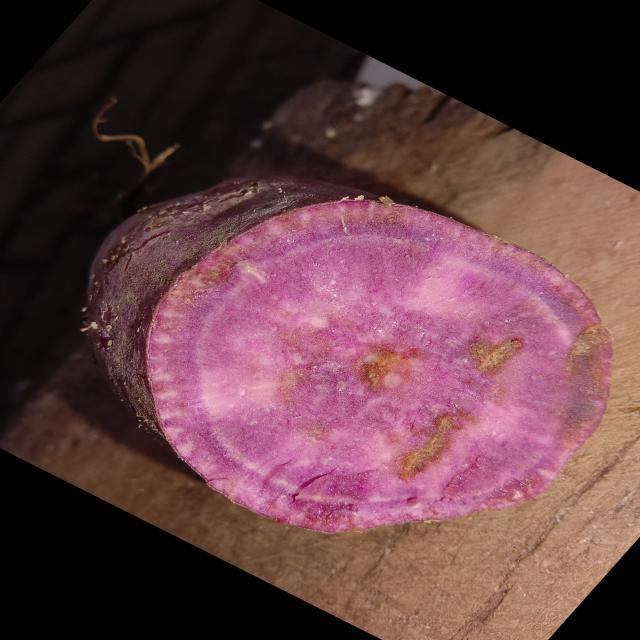Sick Sweet Potato_Tuber Rot: (148, 201, 612, 531)
